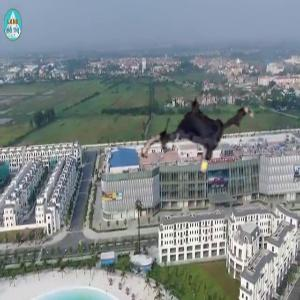drone: (141, 75, 259, 193)
